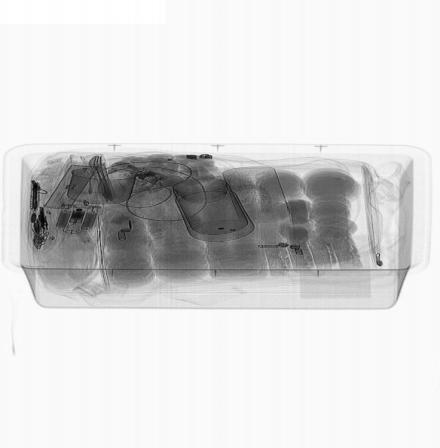Knife: (30, 180, 41, 212)
